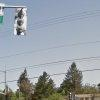Traffic light: (10, 5, 37, 43)
